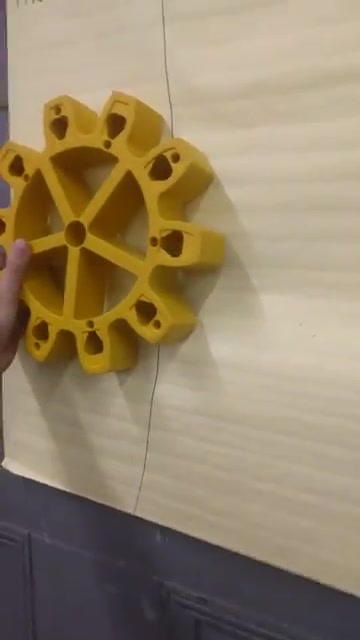gear: (1, 87, 215, 379)
